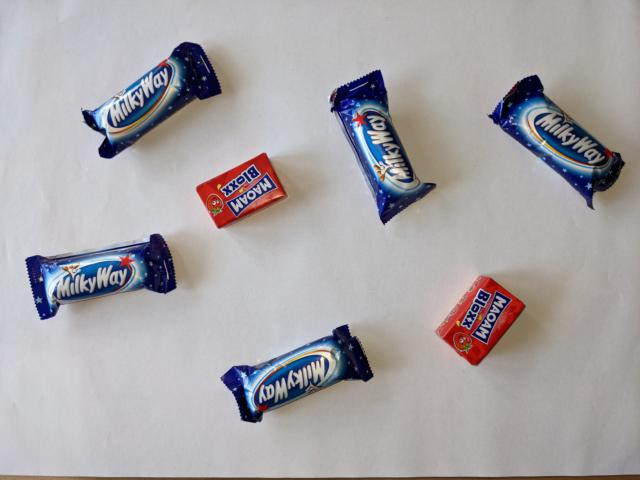MAOAM: (432, 273, 528, 368), (193, 150, 288, 231)
MilkyWay: (486, 72, 628, 212), (327, 66, 438, 227), (77, 40, 223, 161), (218, 323, 376, 425), (23, 231, 179, 322)
